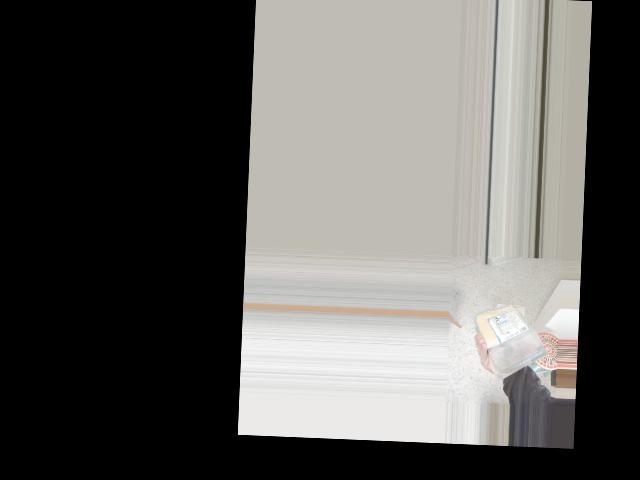cheese: (481, 298, 549, 371)
